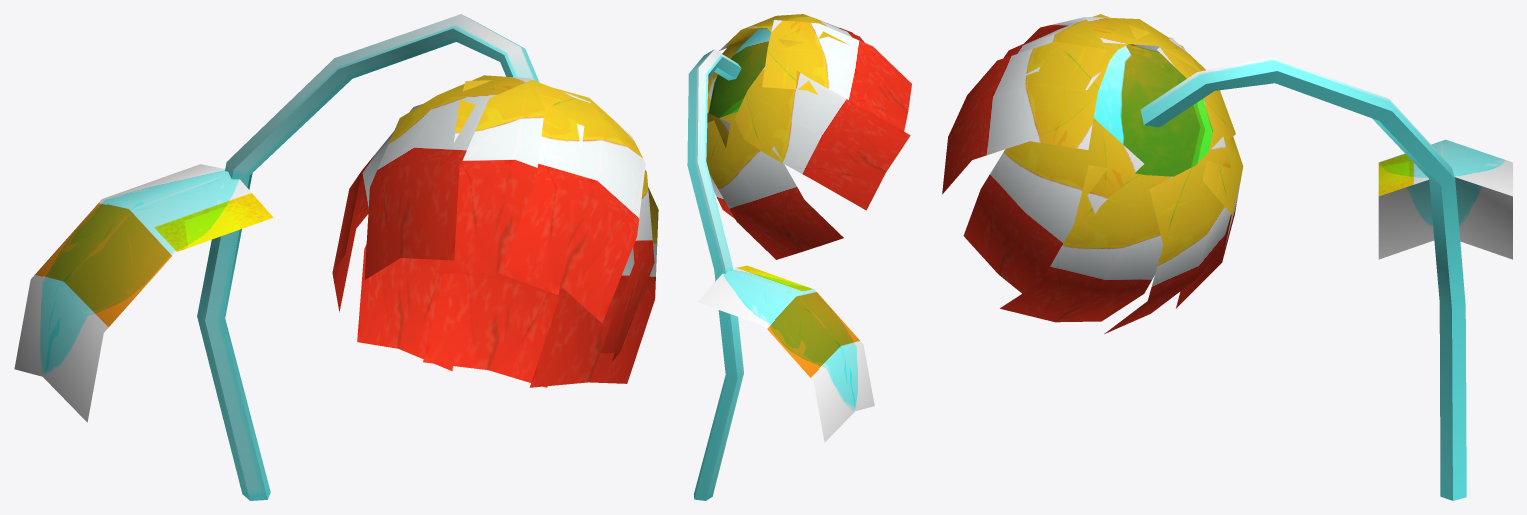
The model's file is PlantTest.fbx.
The picture shows the model from 3 angles, left to right: view 1: azimuth 30°, elevation 25°; view 2: azimuth 150°, elevation 25°; view 3: azimuth 270°, elevation 25°; orthographic projection. The views are drawn at different scales.
Visible parts, largest first — view 1: polymsh_detached4, polymsh_detached3, polymsh24; view 2: polymsh_detached4, polymsh_detached3, polymsh24, polymsh_detached5; view 3: polymsh_detached4, polymsh24, polymsh_detached3, polymsh_detached5.
Part boxes in pixels (x1,y1,x2,y2): polymsh_detached4: [332, 75, 658, 387]; polymsh_detached3: [14, 164, 273, 422]; polymsh24: [197, 14, 539, 500]; polymsh_detached4: [706, 14, 911, 259]; polymsh_detached3: [697, 265, 874, 442]; polymsh24: [687, 49, 743, 500]; polymsh_detached5: [708, 29, 770, 118]; polymsh_detached4: [942, 14, 1243, 333]; polymsh24: [1140, 57, 1466, 500]; polymsh_detached3: [1378, 139, 1512, 259]; polymsh_detached5: [1093, 44, 1212, 176].
Bounding box in the file's own units: 1.49 × 1.85 × 1.94.
